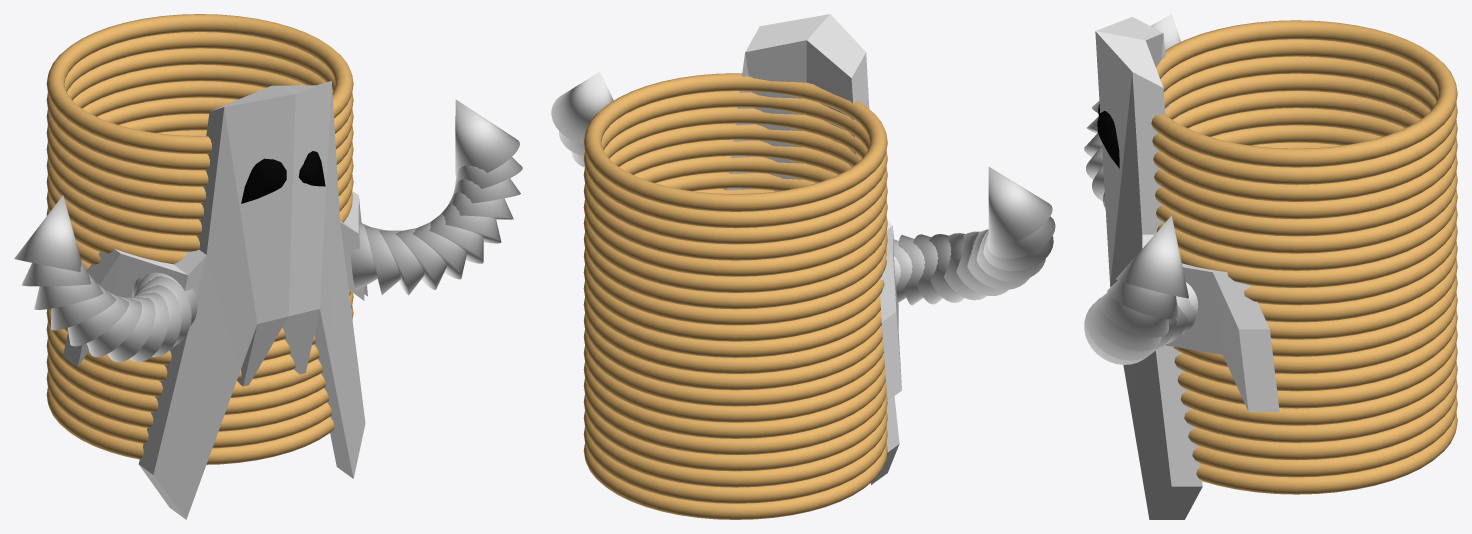
The model's file is amulet_04.fbx.
3 views of the same model, side by side, from view 1: azimuth 30°, elevation 25°; view 2: azimuth 150°, elevation 25°; view 3: azimuth 270°, elevation 25° (orthographic). The views are drawn at different scales.
Visible parts, largest first — view 1: Torus, Cube, Cone, Icosphere; view 2: Torus, Cone, Cube; view 3: Torus, Cube, Cone, Icosphere.
Part boxes in pixels (x1,y1,x2,y2): Torus: [46, 14, 353, 464]; Cube: [63, 81, 367, 519]; Cone: [14, 99, 522, 362]; Icosphere: [241, 151, 325, 203]; Torus: [583, 73, 887, 519]; Cone: [551, 72, 1055, 305]; Cube: [723, 14, 901, 484]; Torus: [1151, 20, 1457, 494]; Cube: [1095, 17, 1279, 519]; Cone: [1084, 14, 1198, 364]; Icosphere: [1097, 104, 1119, 168].
Size of the model in its own units: 1587 by 1296 by 984.
